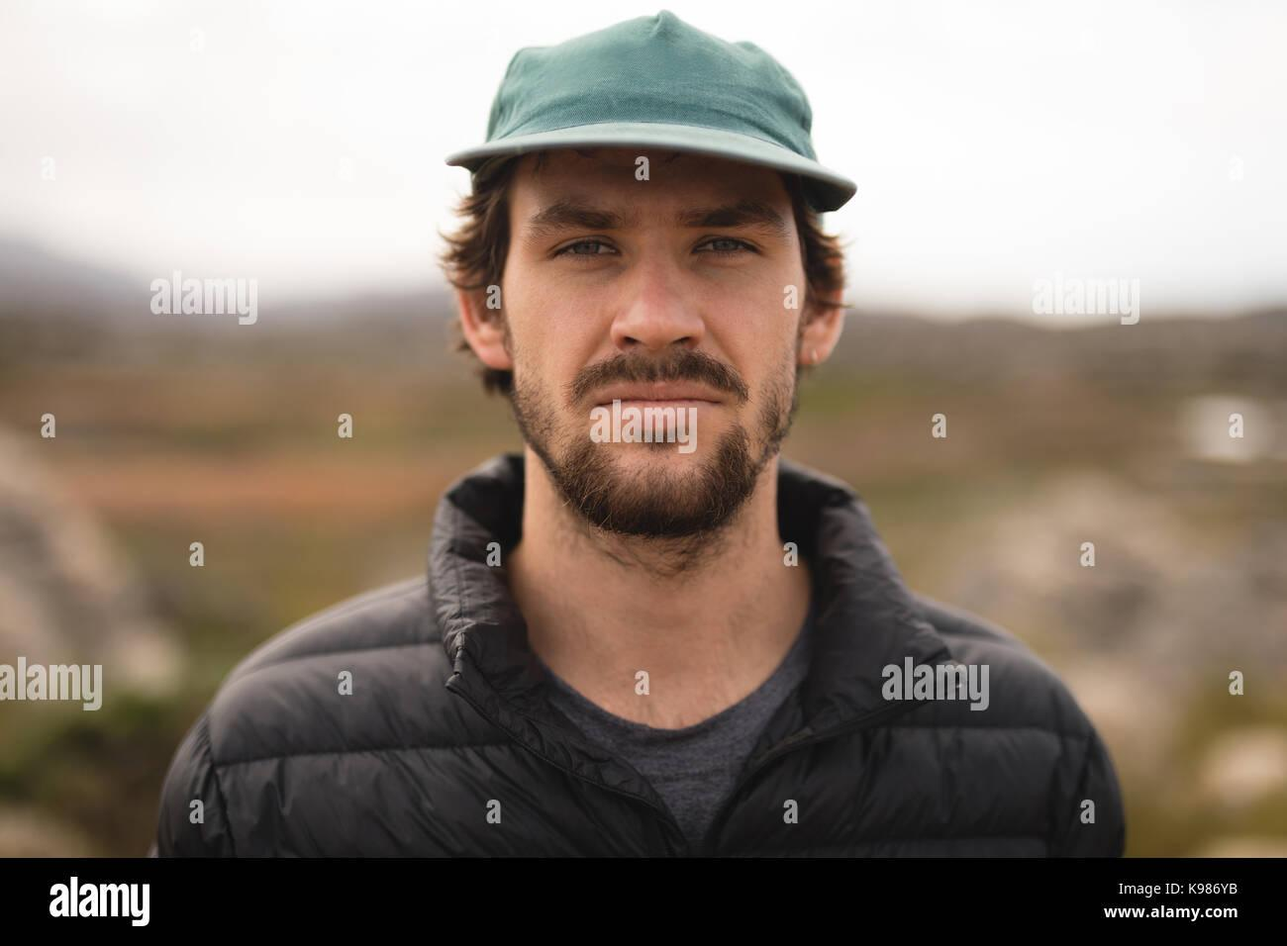cap: (431, 10, 889, 216)
